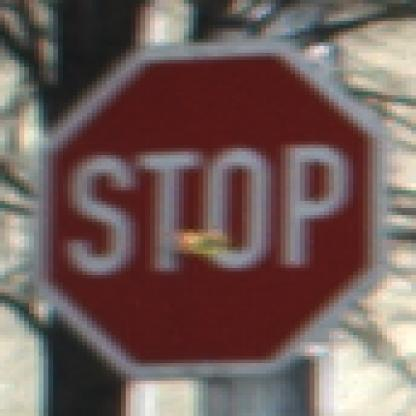Stop: (41, 51, 373, 369)
